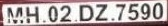character: (6, 7, 22, 24), (78, 4, 93, 22), (94, 3, 108, 21), (25, 6, 39, 23), (59, 4, 71, 22), (152, 1, 163, 20), (127, 2, 138, 20), (47, 5, 58, 22), (115, 2, 125, 20), (140, 2, 150, 20)
